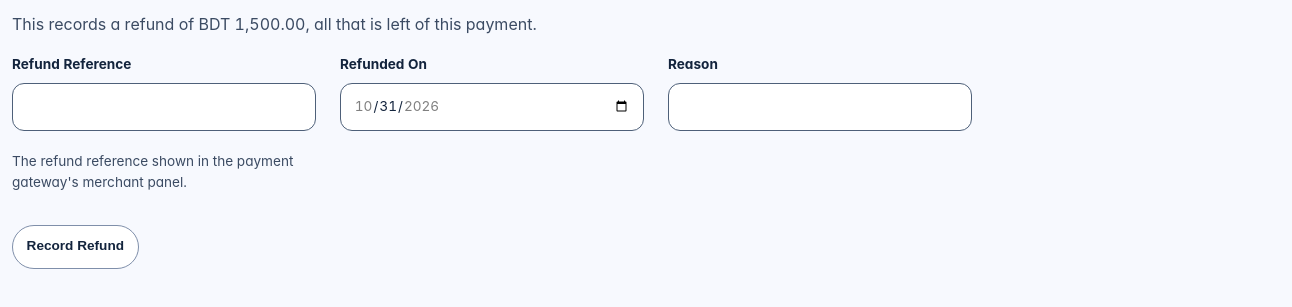
Test case: the Record Refund form of Traveller Billing (ADR 0025 T6b) › sends the shown amount and its own key once confirmed, then takes a fresh key and says the result
The image size is (1292, 307).
Expected: the date field named "refundedOn" holds "2026-10-31", [340,83,644,131]
What coordinates should you click on to do the following:
click the submit button
I would click on:
 (75, 247)
Its box is [12,225,139,269].
Wait 200 ms
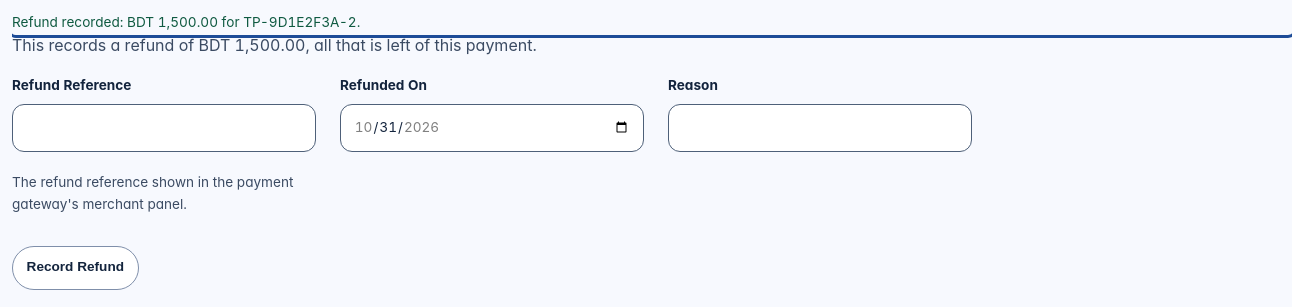
Expected: the text "Refund recorded: BDT 1,500.00 for TP-9D1E2F3A-2." is shown, [12,14,360,30]
